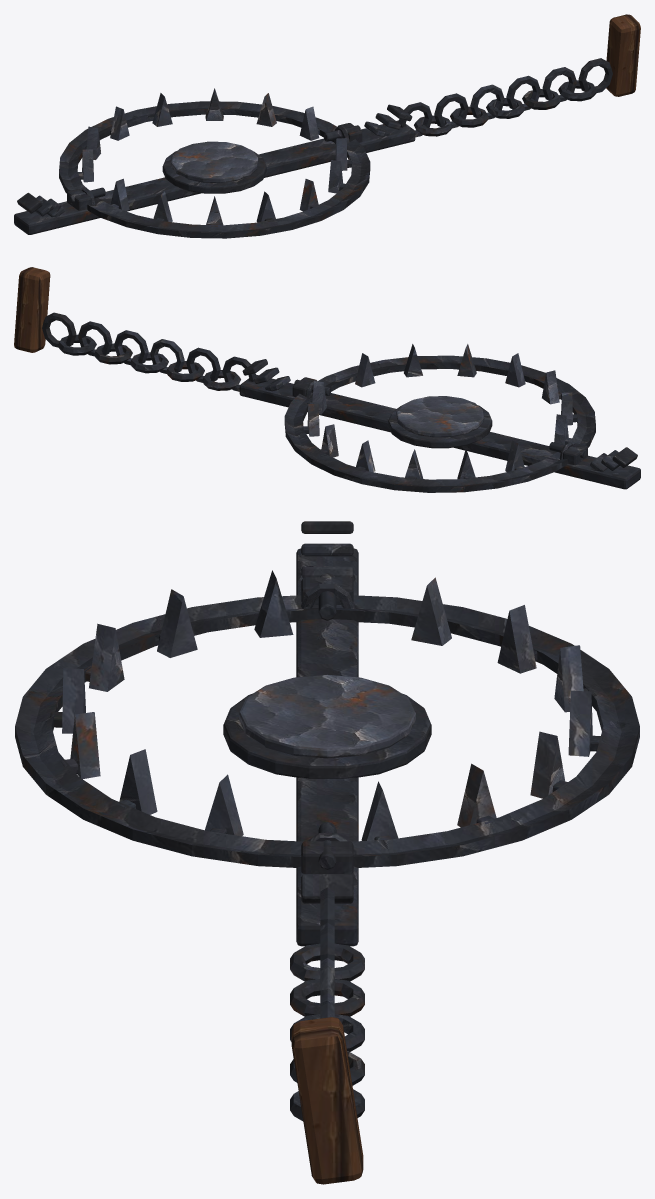
Rendered from trap_bear_jaws.glb.
3 renders of one model, top to bottom at view 1: azimuth 30°, elevation 25°; view 2: azimuth 150°, elevation 25°; view 3: azimuth 270°, elevation 25°, orthographic. The views are drawn at different scales.
Parts seen in each view (by area): view 1: base, jaw_r, jaw_l, plate; view 2: base, jaw_l, jaw_r, plate; view 3: base, jaw_l, jaw_r, plate.
Boxes of the visible parts, x1=… form: base: x1=14, y1=14, x2=640, y2=234; jaw_r: x1=81, y1=129, x2=370, y2=238; jaw_l: x1=59, y1=88, x2=348, y2=205; plate: x1=170, y1=141, x2=258, y2=182; base: x1=14, y1=267, x2=640, y2=489; jaw_l: x1=284, y1=380, x2=573, y2=492; jaw_r: x1=305, y1=344, x2=595, y2=450; plate: x1=396, y1=396, x2=484, y2=437; base: x1=223, y1=521, x2=431, y2=1184; jaw_l: x1=301, y1=577, x2=639, y2=867; jaw_r: x1=15, y1=570, x2=352, y2=867; plate: x1=239, y1=674, x2=415, y2=758.
Bounding box in the file's own units: 1.36 × 0.1626 × 0.6.
Materials: 3 (3 with a texture image).
